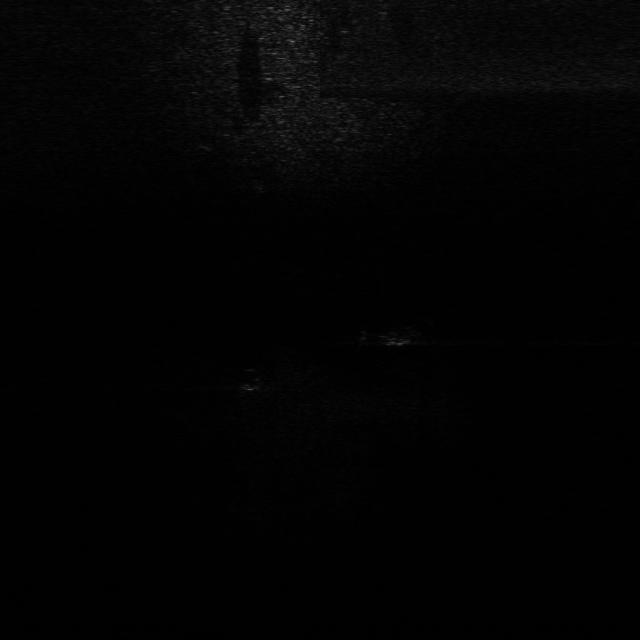ball: (223, 365, 268, 392)
human body: (354, 315, 436, 354)
